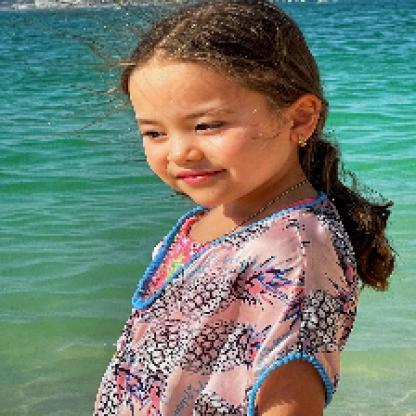child: (90, 1, 400, 415)
